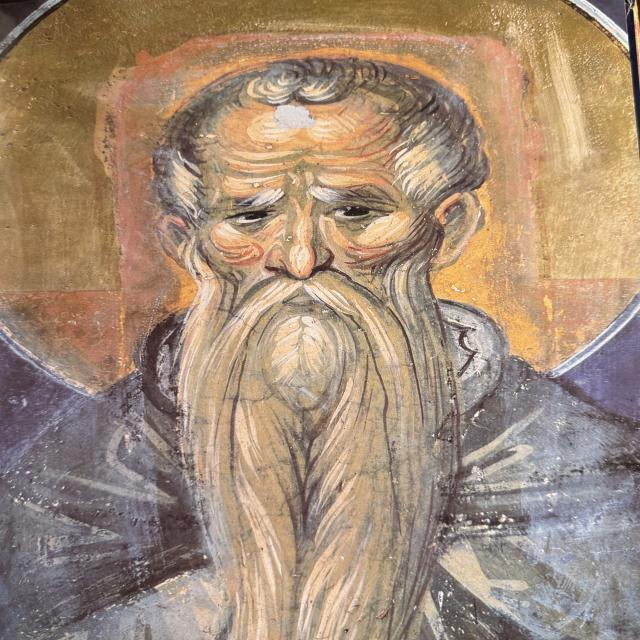aura: (2, 1, 640, 401)
saint: (105, 27, 570, 640)
